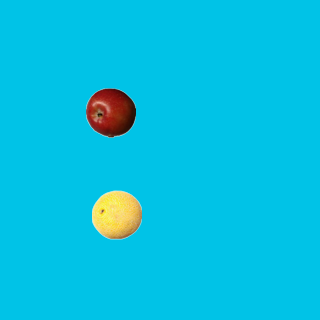Apple Braeburn: (85, 87, 135, 137)
Cantaloupe 1: (91, 189, 141, 239)
